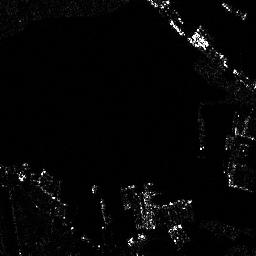ship: (221, 1, 248, 20)
